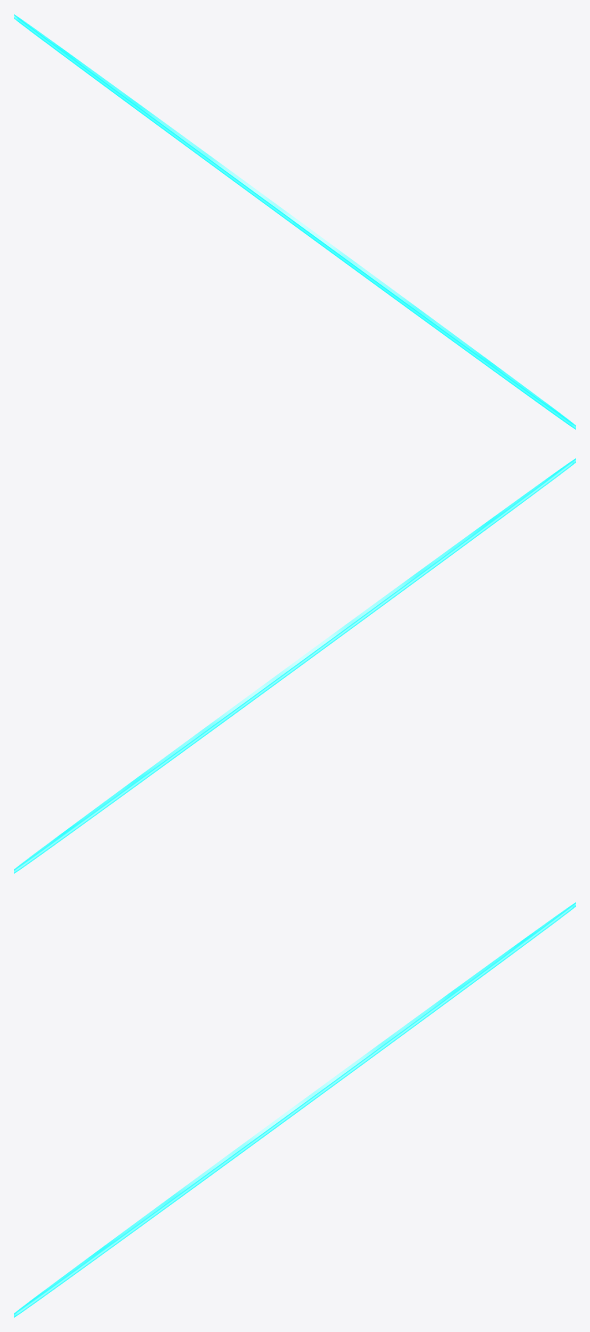
File: cyan_laser_rod_5.glb
3 renders of one model, top to bottom at view 1: azimuth 30°, elevation 25°; view 2: azimuth 150°, elevation 25°; view 3: azimuth 330°, elevation 25°, orthographic.
Visible parts, largest first — view 1: CyanLaserRod_Root; view 2: CyanLaserRod_Root; view 3: CyanLaserRod_Root.
Part boxes in pixels (x1=…): CyanLaserRod_Root: x1=14, y1=14, x2=575, y2=429; CyanLaserRod_Root: x1=14, y1=458, x2=575, y2=873; CyanLaserRod_Root: x1=14, y1=902, x2=575, y2=1317.
Size of the model in its own units: 0.125 by 0.125 by 29.
1 material, 1 textured.
